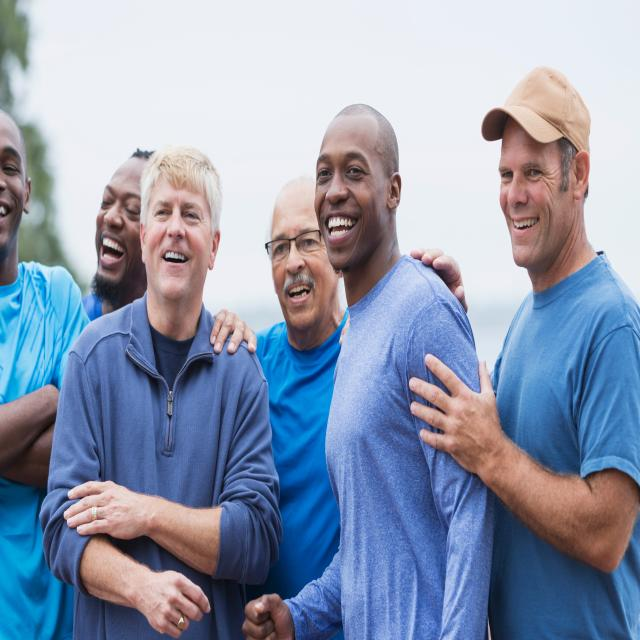sem_oculos: (498, 150, 576, 186), (142, 198, 216, 234), (314, 158, 394, 188), (260, 234, 324, 262), (104, 178, 138, 224), (0, 142, 23, 188)
